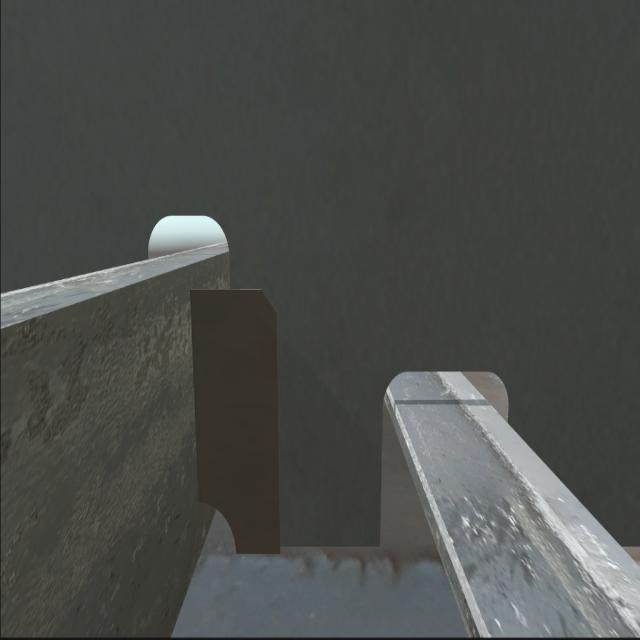fillet_hole: (195, 496, 241, 562)
fillet_yong_jeop_jang: (237, 536, 381, 556)
longi_yong_jeop_jang: (180, 288, 203, 500)
plate_CP03: (189, 288, 286, 568)
